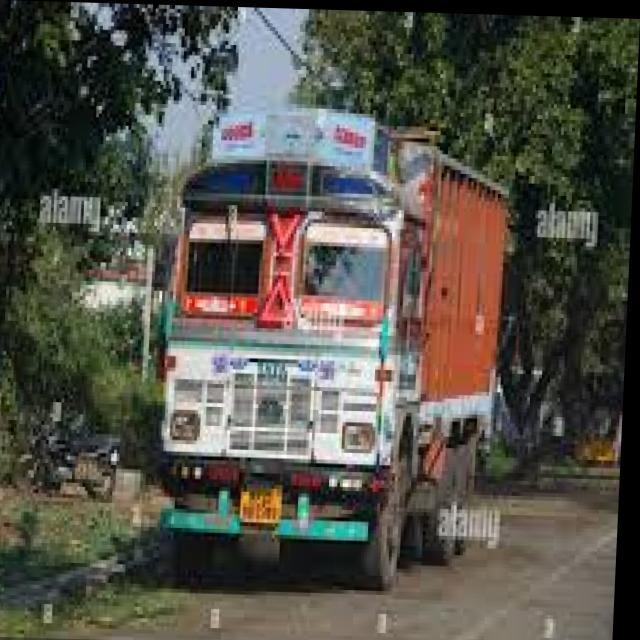covered: (150, 95, 520, 588)
